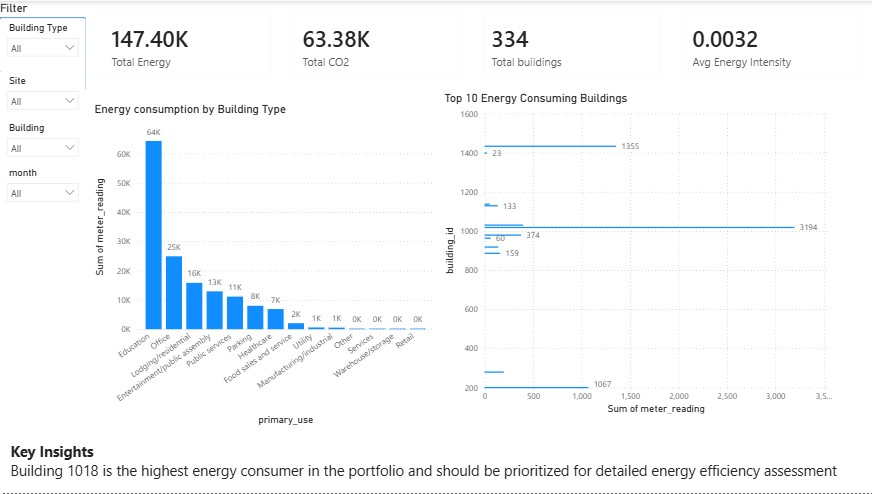

The dashboard page shown, as its layout file describes it:
{"tool":"powerbi","page":{"name":"Executive Summary","canvas":[1280,720],"ordinal":0},"visuals":[{"type":"shape","title":"Filter ","box":[0,0,125,129.9],"z":0,"group":"g3"},{"type":"cardVisual","fields":{"Data":["final_energy_analysis.Total Energy"]},"box":[132.5,0,280.1,130],"z":0,"group":"g1"},{"type":"slicer","title":"Building Type","fields":{"Values":["final_energy_analysis.primary_use"]},"box":[0,26,125,77],"z":0,"group":"g2"},{"type":"clusteredColumnChart","title":"Energy consumption by Building Type","fields":{"Category":["final_energy_analysis.primary_use"],"Y":["Sum(final_energy_analysis.meter_reading)"]},"box":[132.5,147.5,507.5,477.5],"z":0},{"type":"group","id":"g1","title":"Group 1","box":[132.5,0,1147.5,130],"z":1000},{"type":"cardVisual","fields":{"Data":["final_energy_analysis.Total CO2"]},"box":[412.6,0,276,130],"z":1000,"group":"g1"},{"type":"group","id":"g2","title":"Group 2","box":[0,26,125,282.3],"z":1000,"group":"g3"},{"type":"slicer","fields":{"Values":["final_energy_analysis.site_id"]},"box":[0,103,125,70],"z":1000,"group":"g2"},{"type":"cardVisual","fields":{"Data":["final_energy_analysis.Total buildings"]},"box":[688.6,0,294.7,130],"z":2000,"group":"g1"},{"type":"clusteredBarChart","title":"Top 10 Energy Consuming Buildings","fields":{"Category":["final_energy_analysis.building_id"],"Y":["Sum(final_energy_analysis.meter_reading)"]},"box":[645,131,577.8,477.1],"z":2000},{"type":"slicer","fields":{"Values":["final_energy_analysis.building_id"]},"box":[0,173,125,65.3],"z":2000,"group":"g2"},{"type":"cardVisual","fields":{"Data":["final_energy_analysis.Avg Energy Intensity"]},"box":[983.3,0,296.7,130],"z":3000,"group":"g1"},{"type":"slicer","fields":{"Values":["final_energy_analysis.month"]},"box":[0,238.3,125,70],"z":3000,"group":"g2"},{"type":"textbox","box":[10.1,640,1269.9,80.6],"z":3000},{"type":"group","id":"g3","title":"Group 3","box":[0,0,125,308.3],"z":4006}]}

Visuals, with their boxes in screenshot pixels (x1, y1, x2, y2), scaled from the page's 1280x720 canvas onto the 872x494 screenshot:
"Filter " shape: <box>0,0,85,89</box>
cardVisual - final_energy_analysis.Total Energy: <box>90,0,281,89</box>
"Building Type" slicer: <box>0,18,85,71</box>
"Energy consumption by Building Type" clusteredColumnChart: <box>90,101,436,429</box>
"Group 1" group: <box>90,0,871,89</box>
cardVisual - final_energy_analysis.Total CO2: <box>281,0,469,89</box>
"Group 2" group: <box>0,18,85,212</box>
slicer - final_energy_analysis.site_id: <box>0,71,85,119</box>
cardVisual - final_energy_analysis.Total buildings: <box>469,0,670,89</box>
"Top 10 Energy Consuming Buildings" clusteredBarChart: <box>439,90,833,417</box>
slicer - final_energy_analysis.building_id: <box>0,119,85,164</box>
cardVisual - final_energy_analysis.Avg Energy Intensity: <box>670,0,871,89</box>
slicer - final_energy_analysis.month: <box>0,164,85,212</box>
textbox: <box>7,439,871,493</box>
"Group 3" group: <box>0,0,85,212</box>
